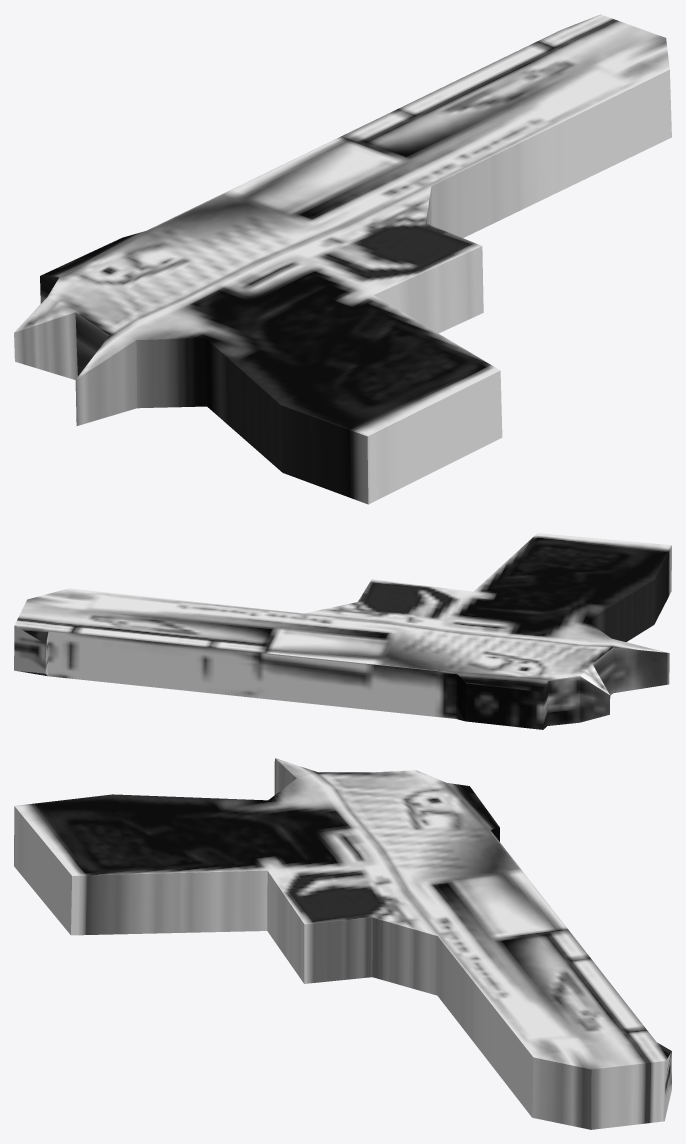
The model's file is deagle-drop.glb.
The picture shows the model from 3 angles, top to bottom: view 1: azimuth 30°, elevation 25°; view 2: azimuth 150°, elevation 25°; view 3: azimuth 270°, elevation 25°; orthographic projection. The views are drawn at different scales.
Parts seen in each view (by area): view 1: deagle dropped.001; view 2: deagle dropped.001; view 3: deagle dropped.001.
Boxes of the visible parts, x1,y1,x2,y2 form: deagle dropped.001: (14,14,671,504); deagle dropped.001: (14,533,671,729); deagle dropped.001: (14,758,671,1129).
Size of the model in its own units: 0.2223 by 0.022 by 0.1863.
Materials: 1 (1 with a texture image).
